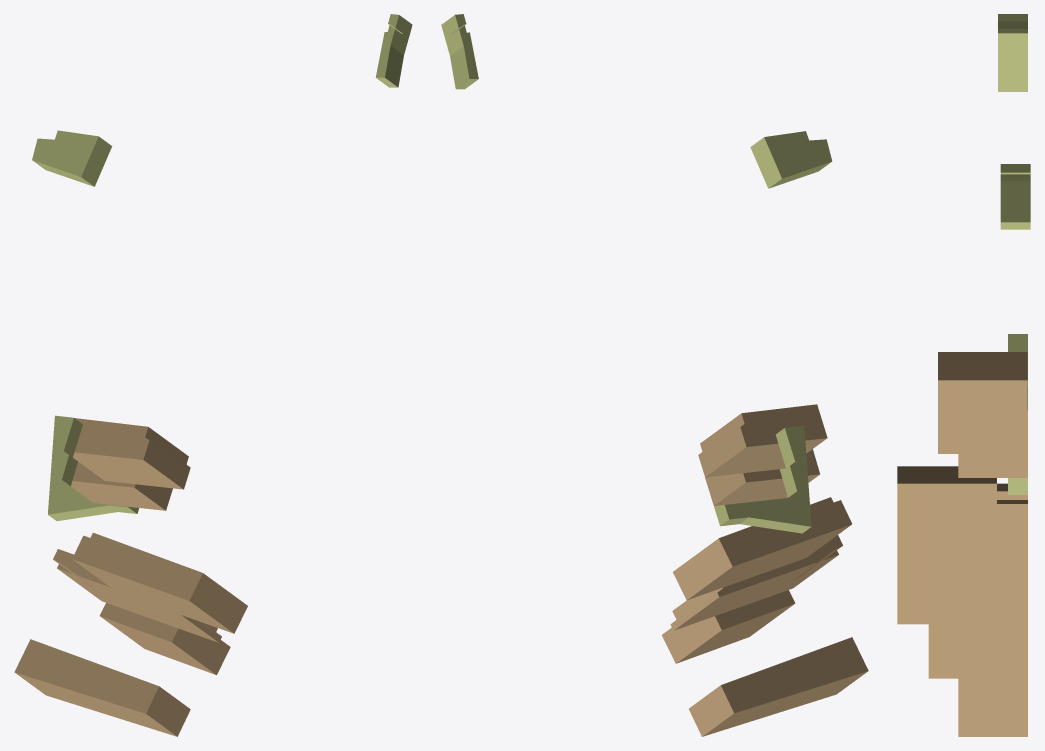
3 renders of one model, left to right at view 1: azimuth 30°, elevation 25°; view 2: azimuth 150°, elevation 25°; view 3: azimuth 270°, elevation 25°, orthographic. The views are drawn at different scales.
Parts seen in each view (by area): view 1: 0_0_1_3_1_2; view 2: 0_0_1_3_1_2; view 3: 0_0_1_3_1_2.
Boxes of the visible parts, <box> form: 0_0_1_3_1_2: <box>14,14,412,736</box>; 0_0_1_3_1_2: <box>441,14,868,736</box>; 0_0_1_3_1_2: <box>897,14,1030,736</box>.
Bounding box in the file's own units: 148 × 235 × 40.2.
